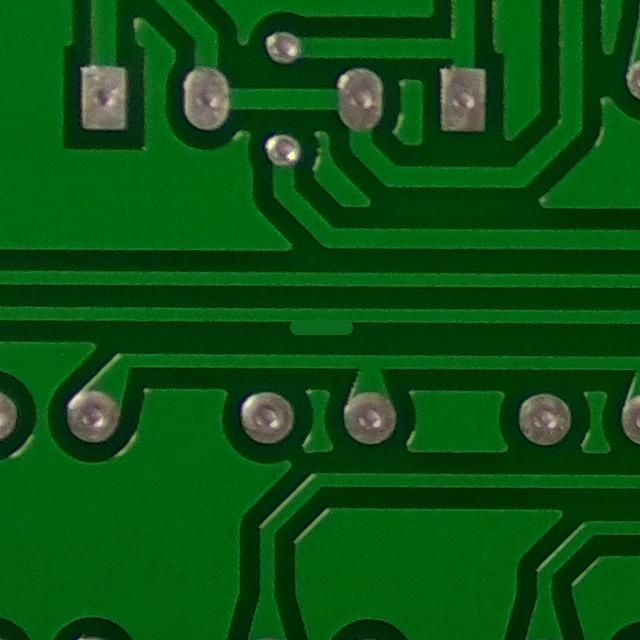spur: (270, 293, 370, 347)
